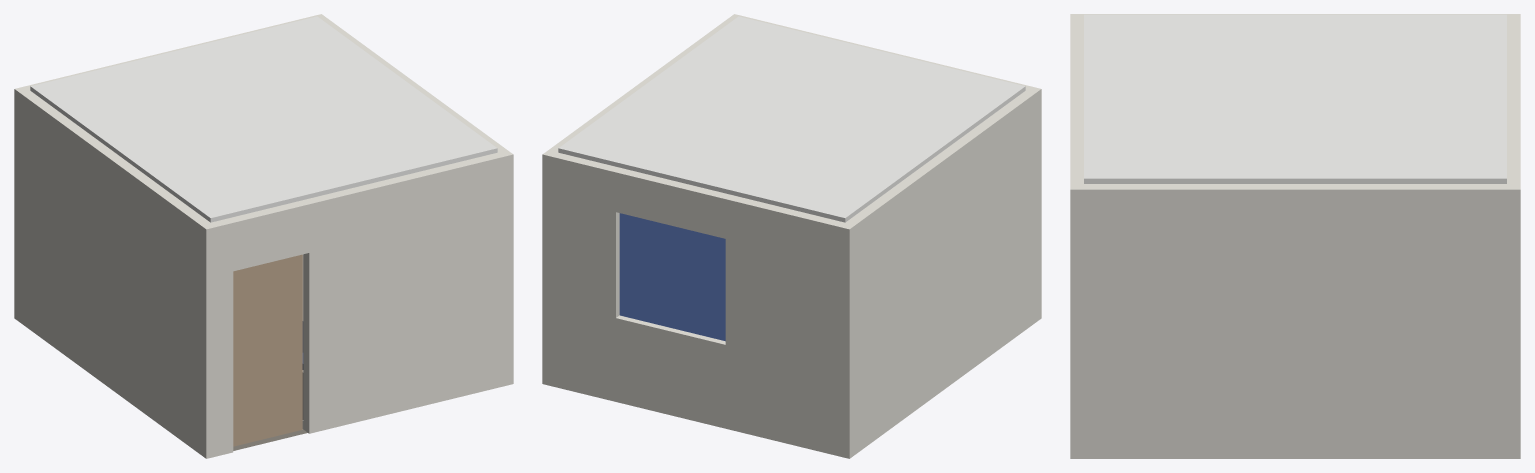
File: apartment.glb
3 renders of one model, left to right at view 1: azimuth 30°, elevation 25°; view 2: azimuth 150°, elevation 25°; view 3: azimuth 270°, elevation 25°, orthographic. The views are drawn at different scales.
Parts seen in each view (by area): view 1: m_apt_wall, m_apt_ceiling, m_apt_door, m_apt_carpet; view 2: m_apt_wall, m_apt_ceiling, m_apt_night; view 3: m_apt_wall, m_apt_ceiling.
Part boxes in pixels (<box>): m_apt_wall: <box>14,14,513,458</box>; m_apt_ceiling: <box>30,16,497,222</box>; m_apt_door: <box>233,254,302,446</box>; m_apt_carpet: <box>233,255,307,450</box>; m_apt_wall: <box>542,14,1041,458</box>; m_apt_ceiling: <box>558,16,1025,222</box>; m_apt_night: <box>619,213,725,341</box>; m_apt_wall: <box>1070,14,1520,458</box>; m_apt_ceiling: <box>1084,14,1506,183</box>.
Size of the model in its own units: 3.64 by 2.7 by 3.94.
